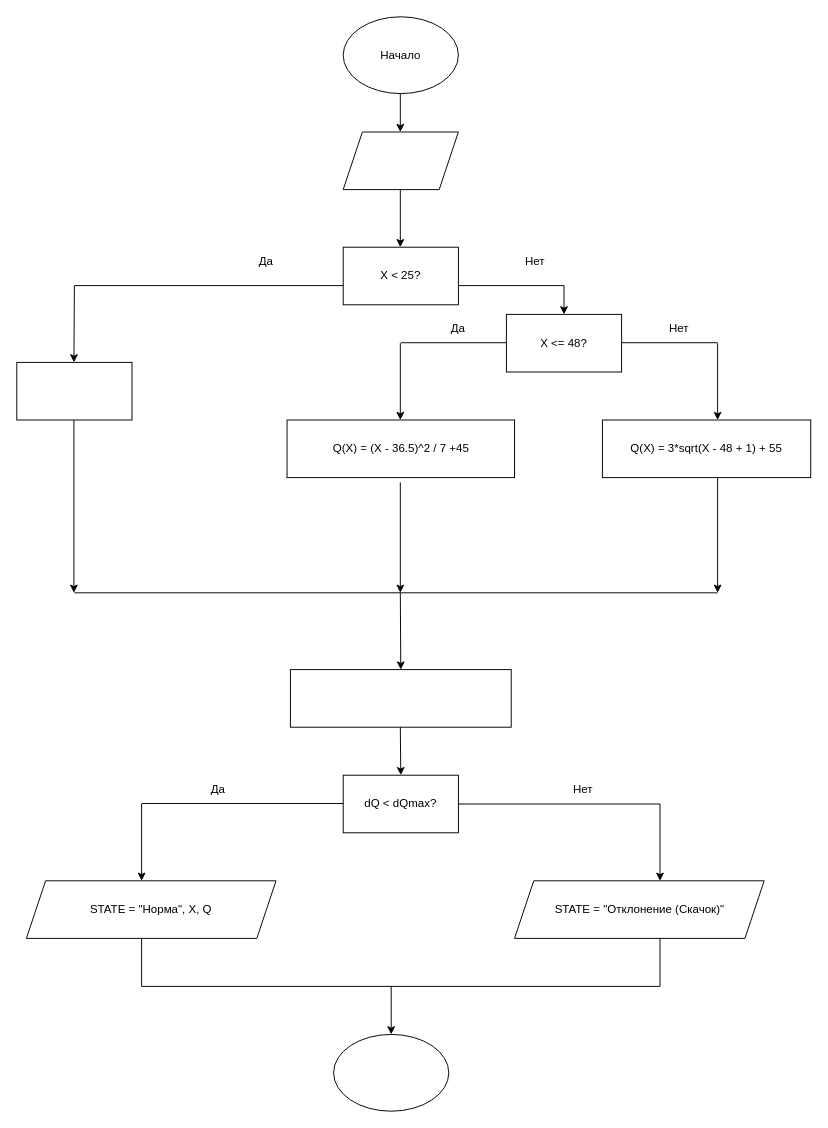
Image size: 828x1128. Some labels were removed from this diagram. Here are the shapes that lost their labels. From the top down, the centre of each, then its label:
At point (400, 160): "Вывод: Введите X:".
At point (74, 390): "Q(X) = 2 * (X - 25) + 10".
At point (400, 698): "Q0 = 45.00 dQmax = 11.00 dQ = fabs (Q - Q0 )".
At point (391, 1072): "Конец".
